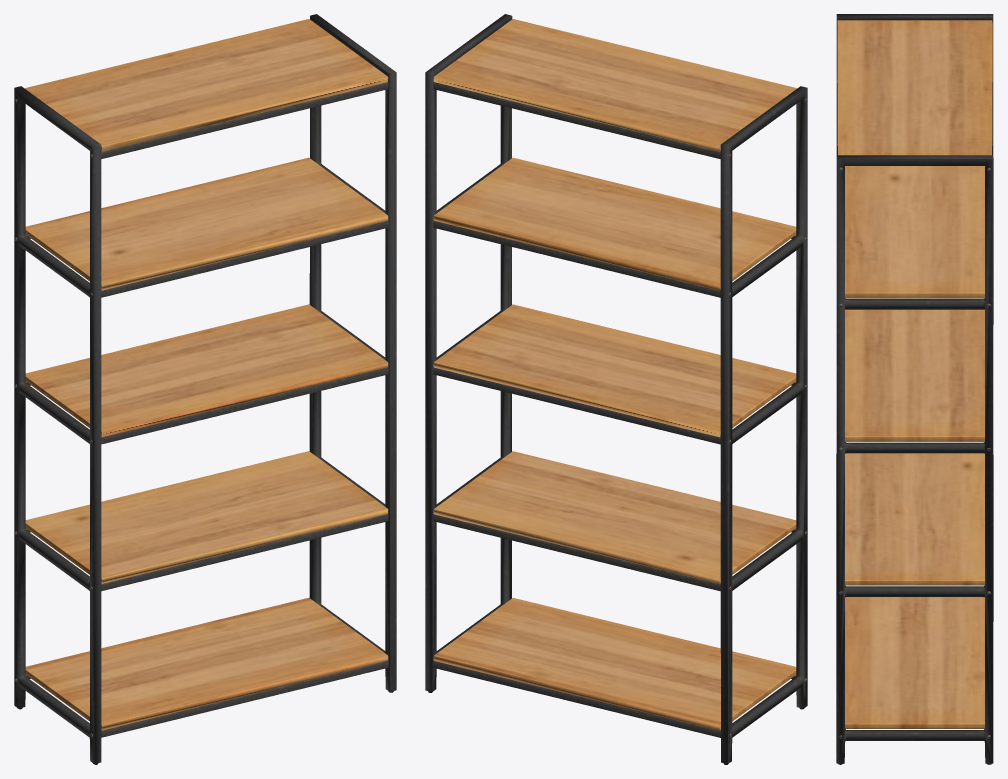
Rendered from steel_frame_shelves_01.glb.
The picture shows the model from 3 angles, left to right: view 1: azimuth 30°, elevation 25°; view 2: azimuth 150°, elevation 25°; view 3: azimuth 270°, elevation 25°; orthographic projection. The views are drawn at different scales.
Parts seen in each view (by area): view 1: steel_frame_shelves_01; view 2: steel_frame_shelves_01; view 3: steel_frame_shelves_01.
Part boxes in pixels (x1,y1,x2,y2): steel_frame_shelves_01: (14,14,396,764); steel_frame_shelves_01: (425,14,807,764); steel_frame_shelves_01: (836,14,993,764).
Bounding box in the file's own units: 10.97 × 21.39 × 5.02.
1 material, 1 textured.
